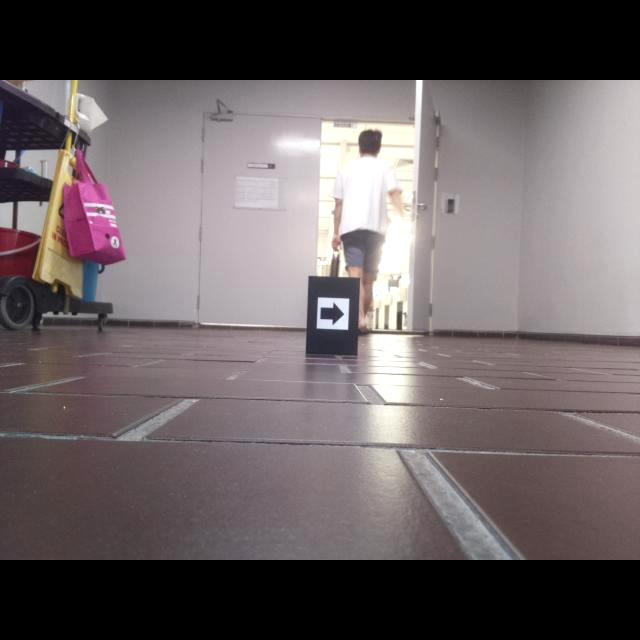RIGHT: (319, 300, 345, 326)
